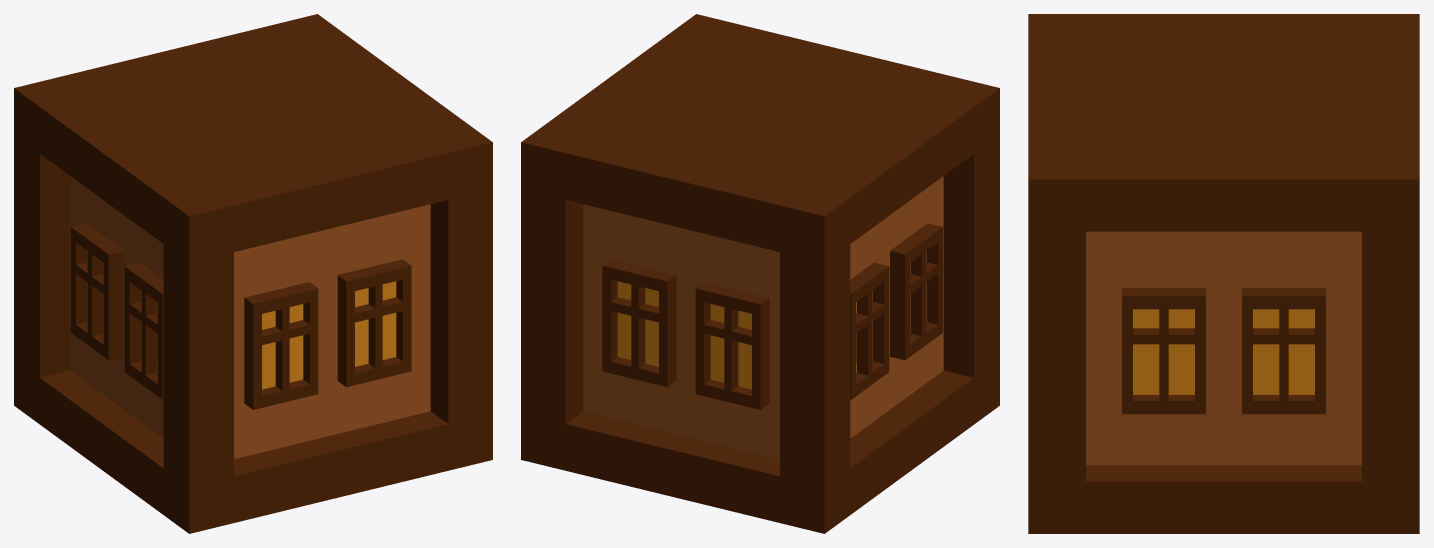
Rendered from City1House1.fbx.
3 views of the same model, side by side, from view 1: azimuth 30°, elevation 25°; view 2: azimuth 150°, elevation 25°; view 3: azimuth 270°, elevation 25° (orthographic). The views are drawn at different scales.
Parts seen in each view (by area): view 1: Cube.022; view 2: Cube.022; view 3: Cube.022.
Boxes of the visible parts, left/top/right/bottom form: Cube.022: left=14, top=14, right=492, bottom=533; Cube.022: left=521, top=14, right=999, bottom=533; Cube.022: left=1028, top=14, right=1419, bottom=533.
Bounding box in the file's own units: 100 × 100 × 100.
